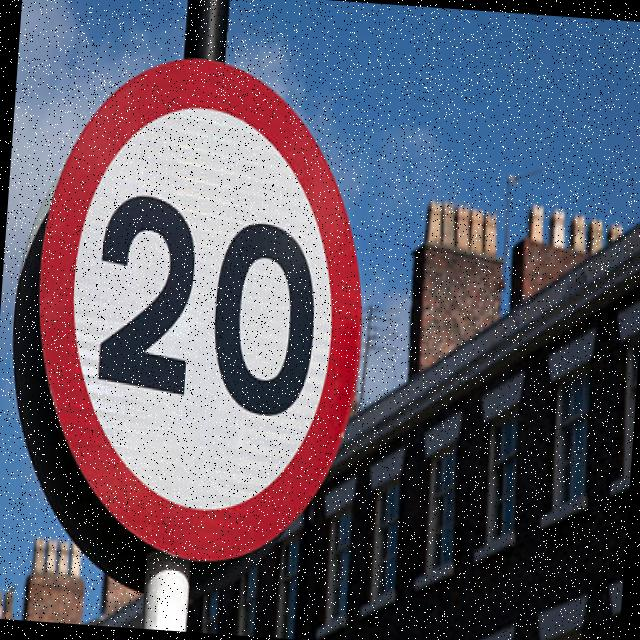speed_limit_20: (17, 42, 389, 580)
